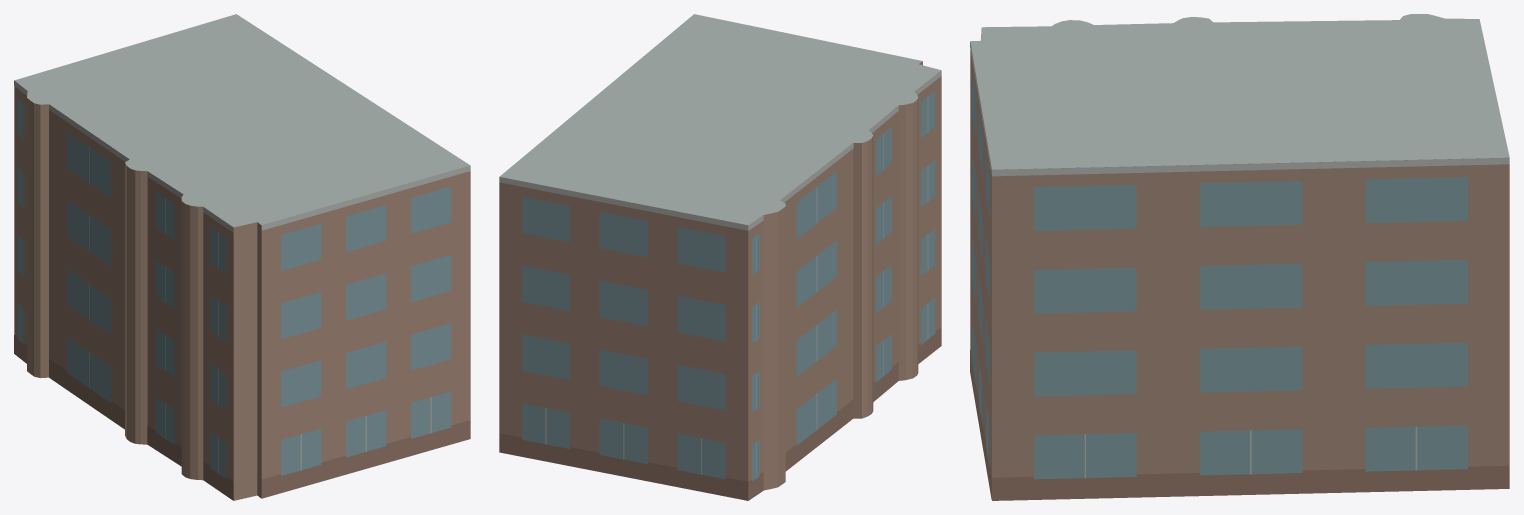
The model's file is survey-upis-32501031.glb.
3 views of the same model, side by side, from view 1: azimuth 30°, elevation 25°; view 2: azimuth 150°, elevation 25°; view 3: azimuth 270°, elevation 25° (orthographic). The views are drawn at different scales.
Parts seen in each view (by area): view 1: survey-upis-32501031.tmp; view 2: survey-upis-32501031.tmp; view 3: survey-upis-32501031.tmp.
Part boxes in pixels (left/top/right/bottom): survey-upis-32501031.tmp: left=14, top=14, right=470, bottom=500; survey-upis-32501031.tmp: left=499, top=14, right=941, bottom=500; survey-upis-32501031.tmp: left=970, top=14, right=1509, bottom=500.
Bounding box in the file's own units: 12.32 × 12.2 × 18.03.
